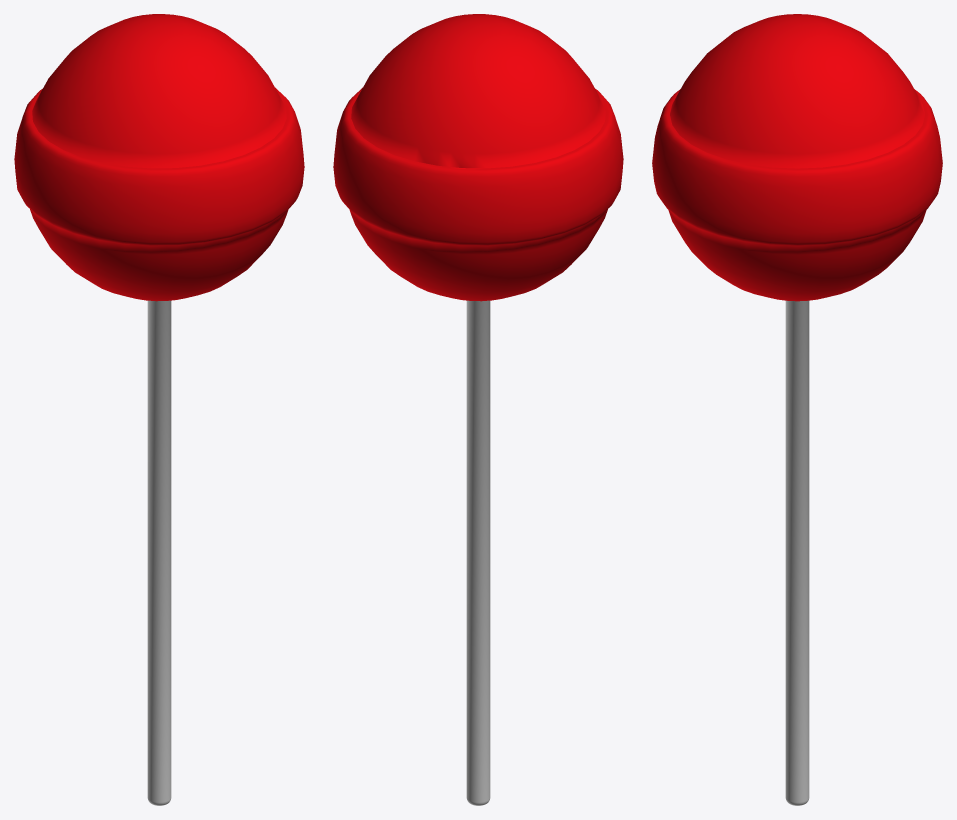
Rendered from lollypop.glb.
3 renders of one model, left to right at view 1: azimuth 30°, elevation 25°; view 2: azimuth 150°, elevation 25°; view 3: azimuth 270°, elevation 25°, orthographic.
Visible parts, largest first — view 1: Sphere; view 2: Sphere; view 3: Sphere.
Boxes of the visible parts, bbox=[...] form: Sphere: bbox=[14, 14, 304, 805]; Sphere: bbox=[333, 14, 623, 805]; Sphere: bbox=[652, 14, 942, 805].
Size of the model in its own units: 2.11 by 6.2 by 2.11.
